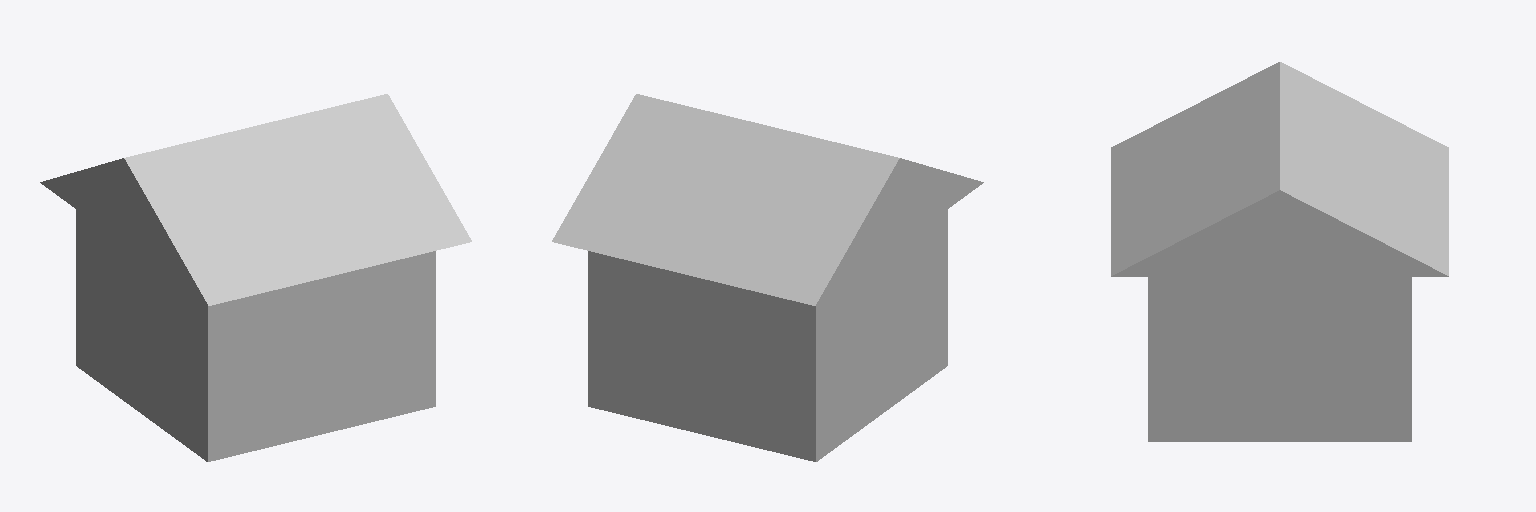
File: HouseOBJ.obj
3 renders of one model, left to right at view 1: azimuth 30°, elevation 25°; view 2: azimuth 150°, elevation 25°; view 3: azimuth 270°, elevation 25°, orthographic.
Visible parts, largest first — view 1: HouseOBJ; view 2: HouseOBJ; view 3: HouseOBJ.
Part boxes in pixels (left/top/right/bottom): HouseOBJ: left=40, top=94, right=471, bottom=461; HouseOBJ: left=552, top=94, right=983, bottom=461; HouseOBJ: left=1111, top=62, right=1448, bottom=441.
Size of the model in its own units: 5.59 by 5.27 by 6.21.